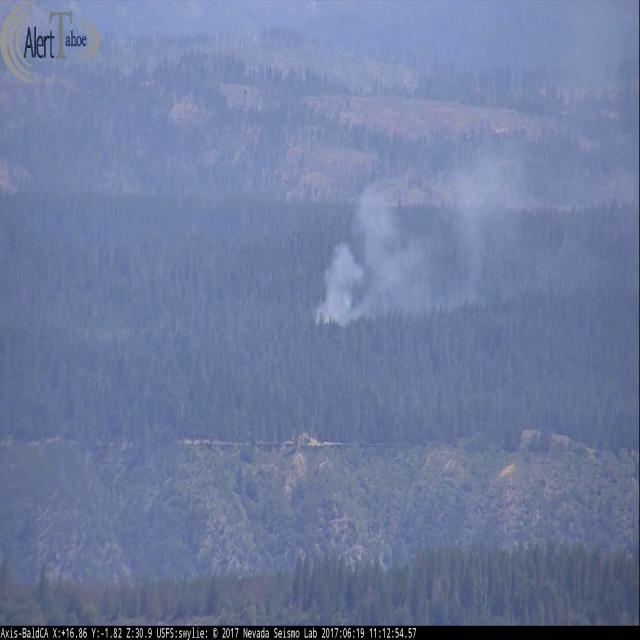smoke: (311, 134, 596, 330)
